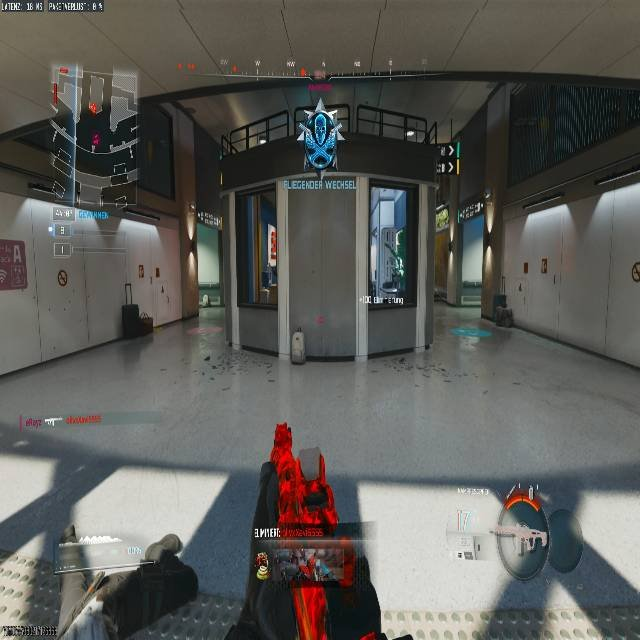player: (303, 103, 341, 177)
